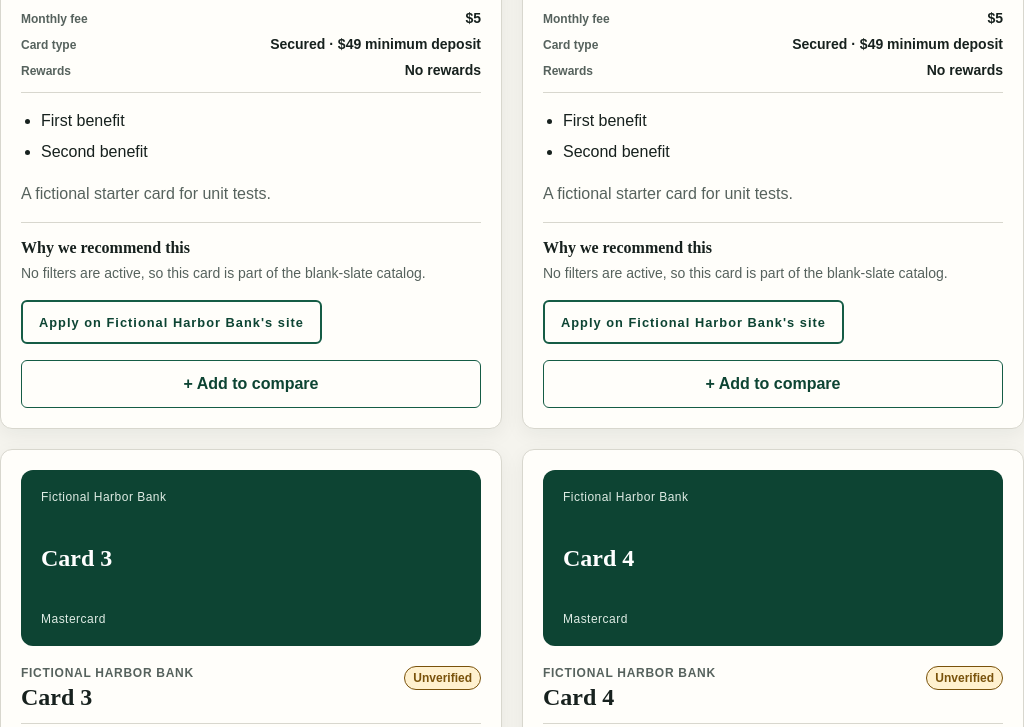
Scenario: comparison cart › enforces four cards but allows removal and clearing
(page scrolled)
Click the 1st button "+ Add to compare". click: click(251, 384)
box: top-left (21, 360), bottom-right (481, 408)
(page scrolled)
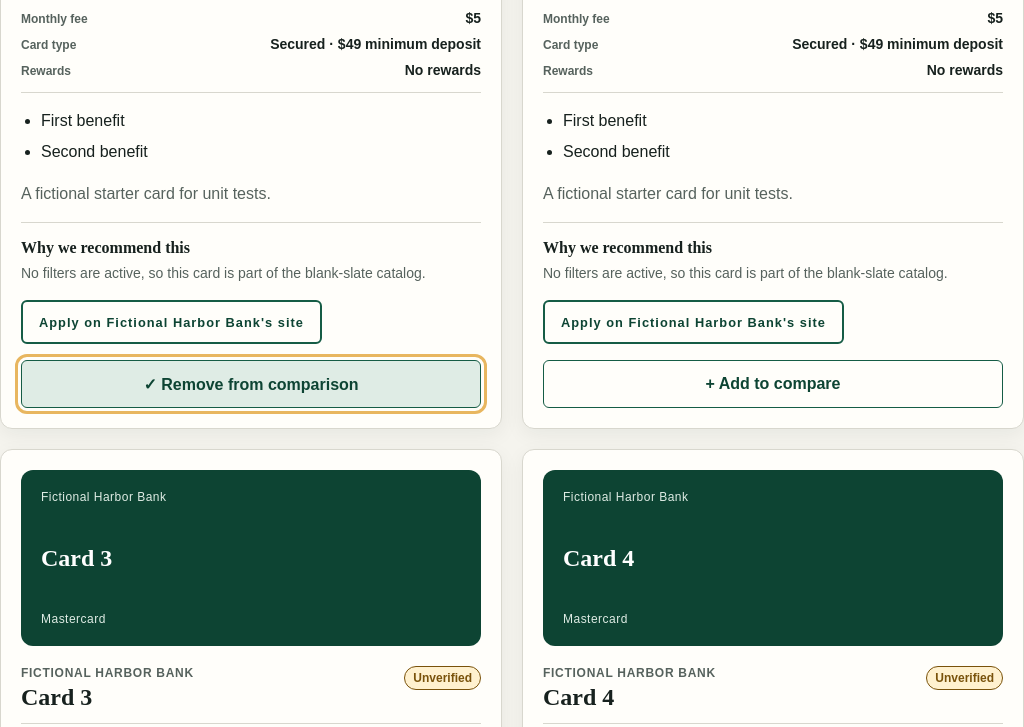
Click the button "+ Add to compare". click: click(773, 384)
box: top-left (543, 360), bottom-right (1003, 408)
(page scrolled)
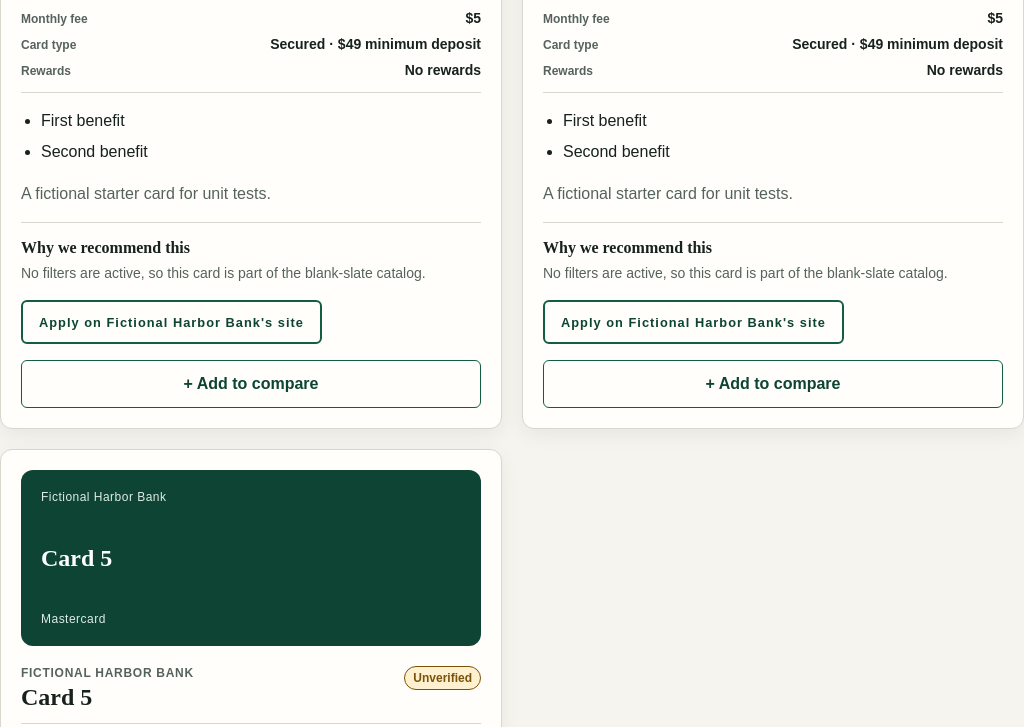
Click the 1st button "+ Add to compare". click: click(251, 384)
box: top-left (21, 360), bottom-right (481, 408)
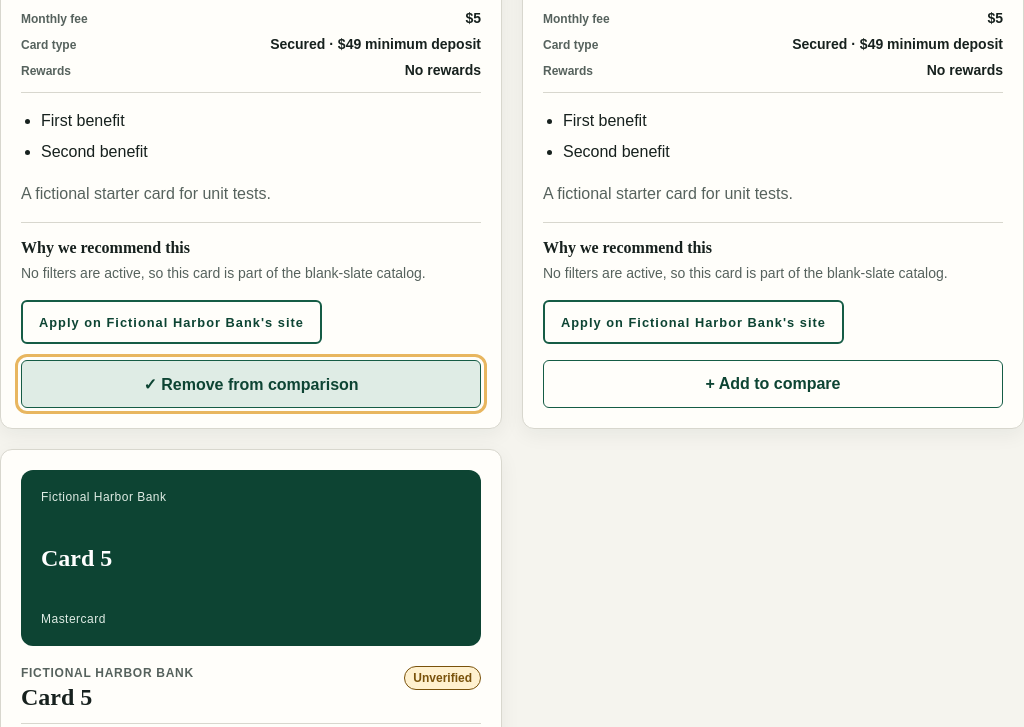
Click the button "+ Add to compare". click: click(773, 384)
box: top-left (543, 360), bottom-right (1003, 408)
(page scrolled)
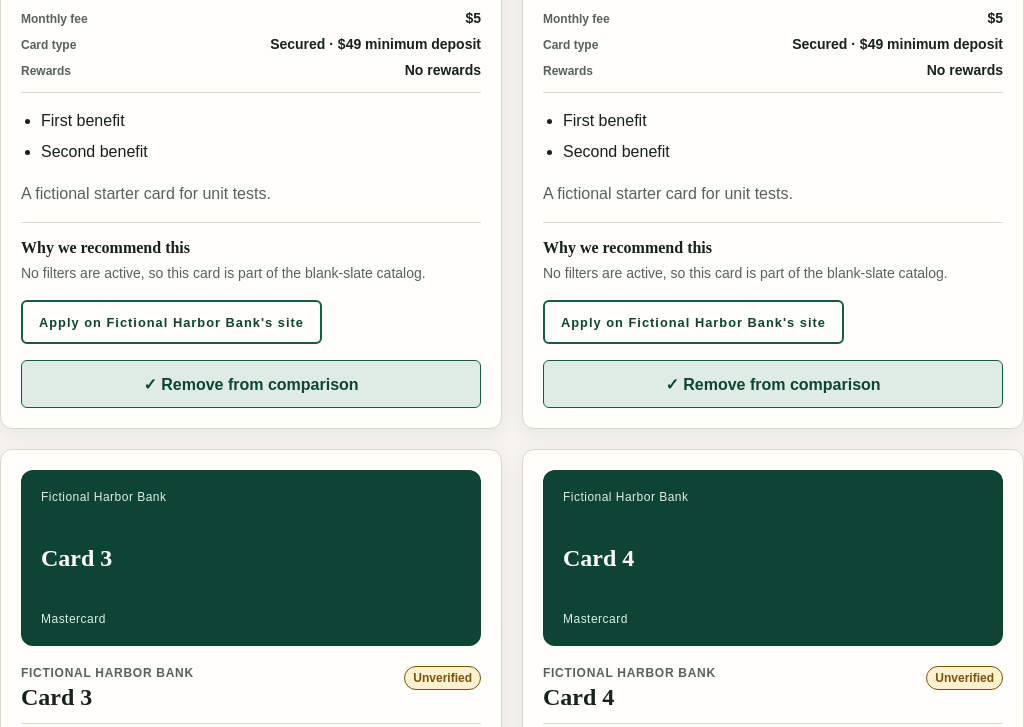
Click the button with aria-label "Remove from comparison: Card 1". click: click(251, 384)
box: top-left (21, 360), bottom-right (481, 408)
(page scrolled)
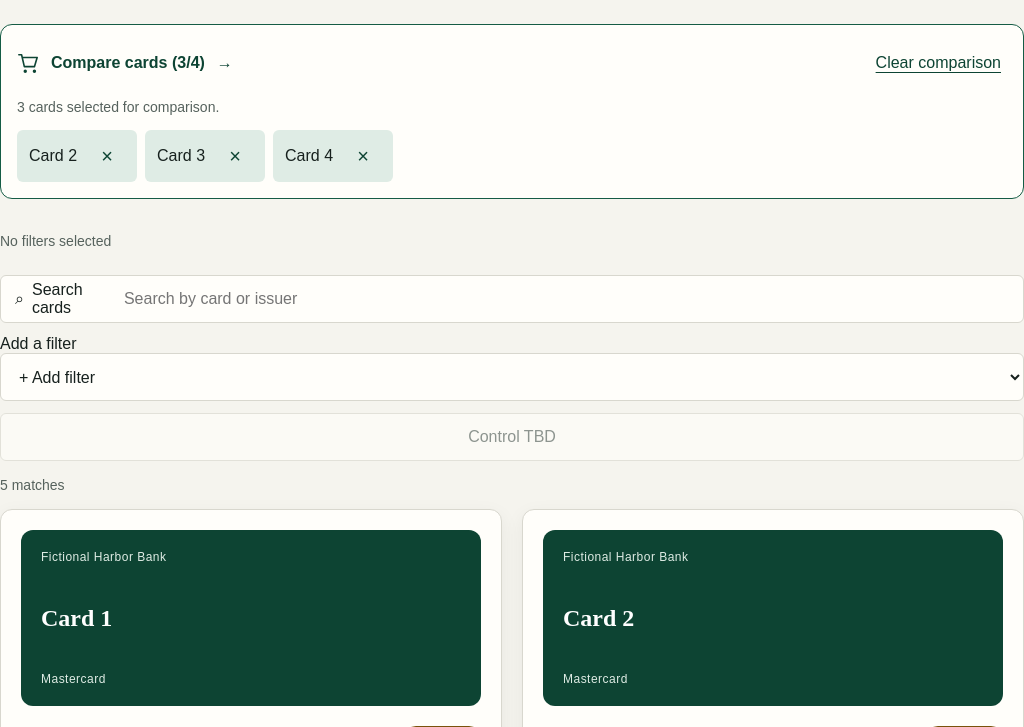
Click the button "Clear comparison". click: click(938, 63)
box: top-left (870, 41), bottom-right (1007, 85)
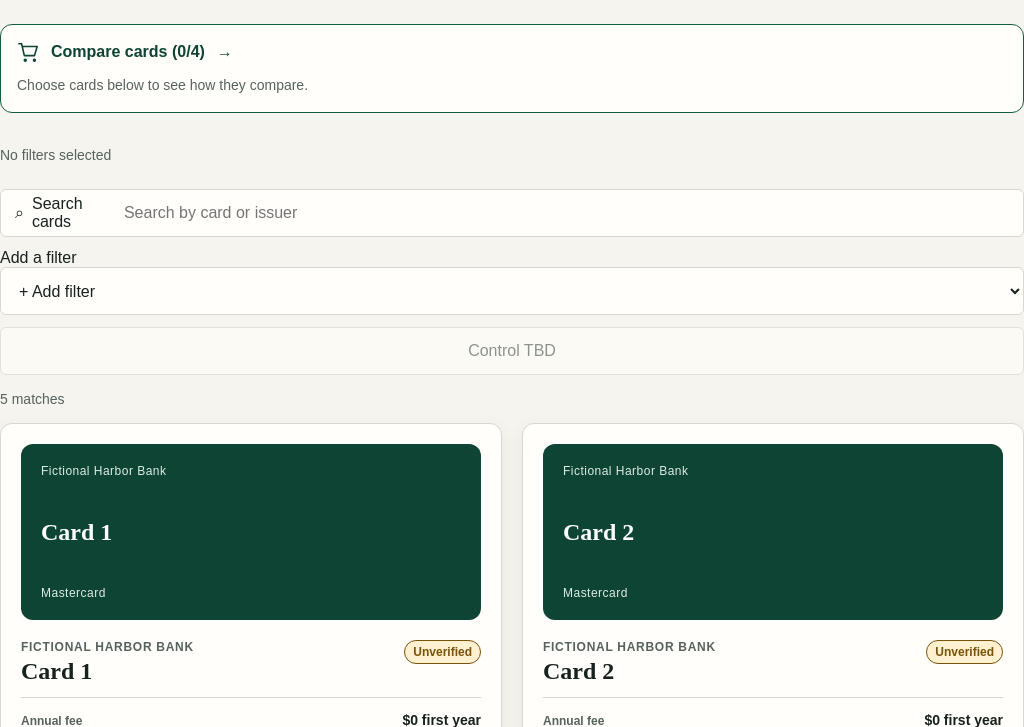
Now the link "Compare cards (0/4) →" is shown, box top-left (17, 41), bottom-right (233, 63)
